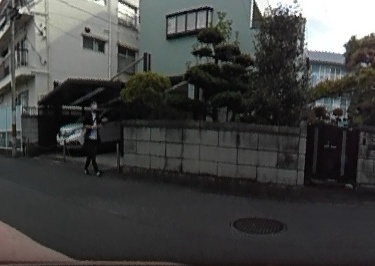person: (79, 99, 103, 177)
